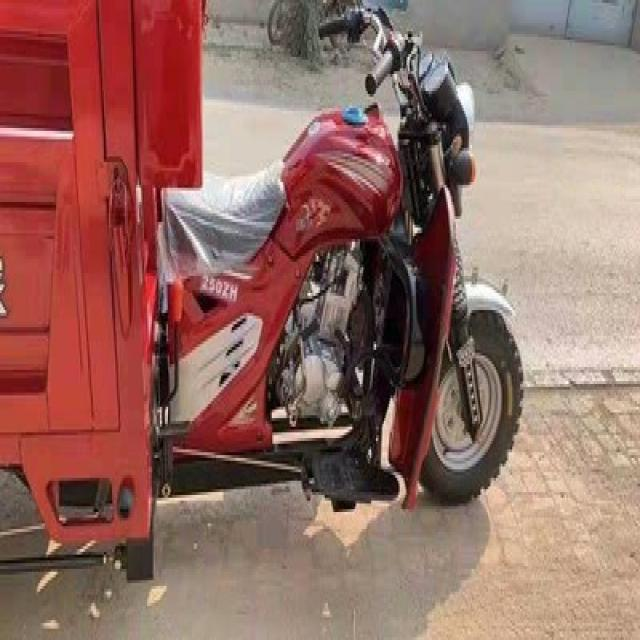tricycle: (0, 0, 523, 586)
